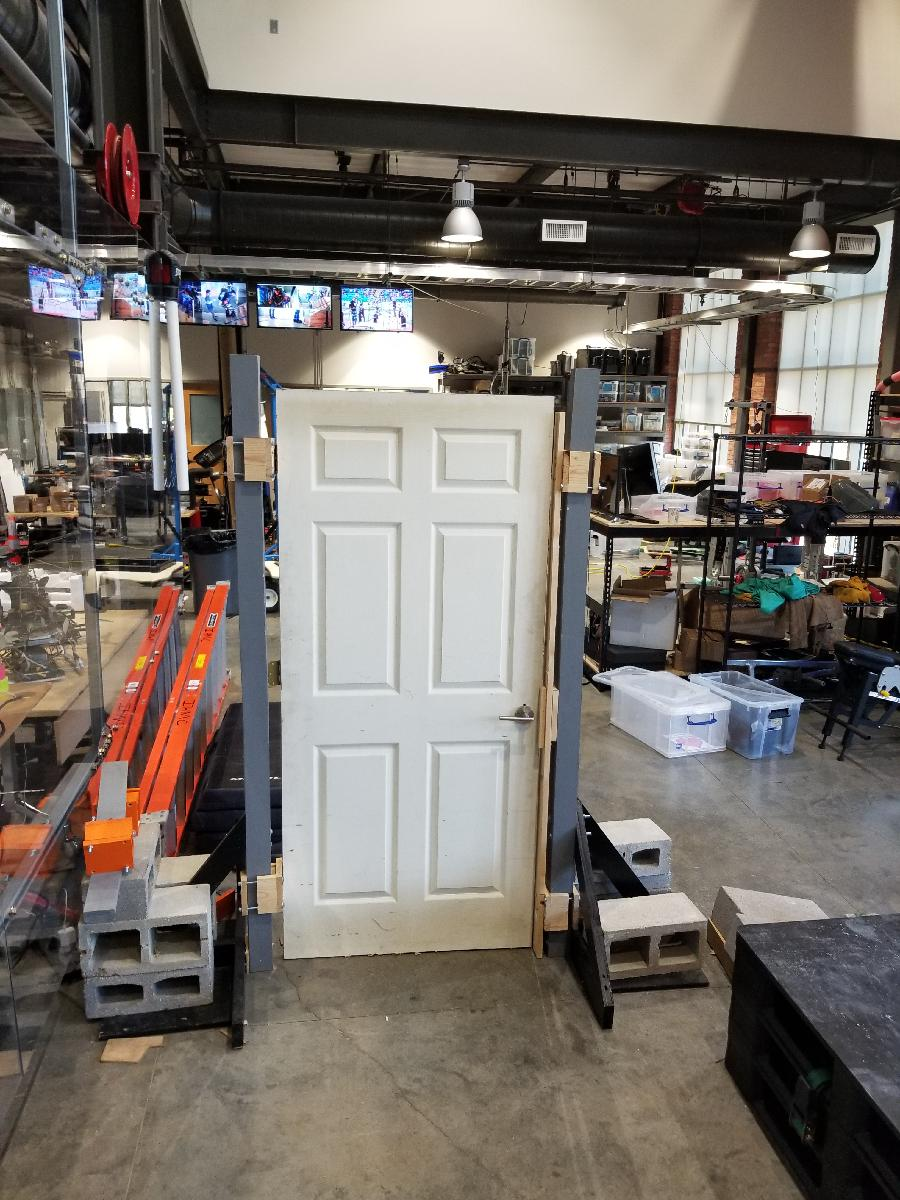door: (267, 382, 557, 971)
doorHandle: (495, 706, 538, 735)
